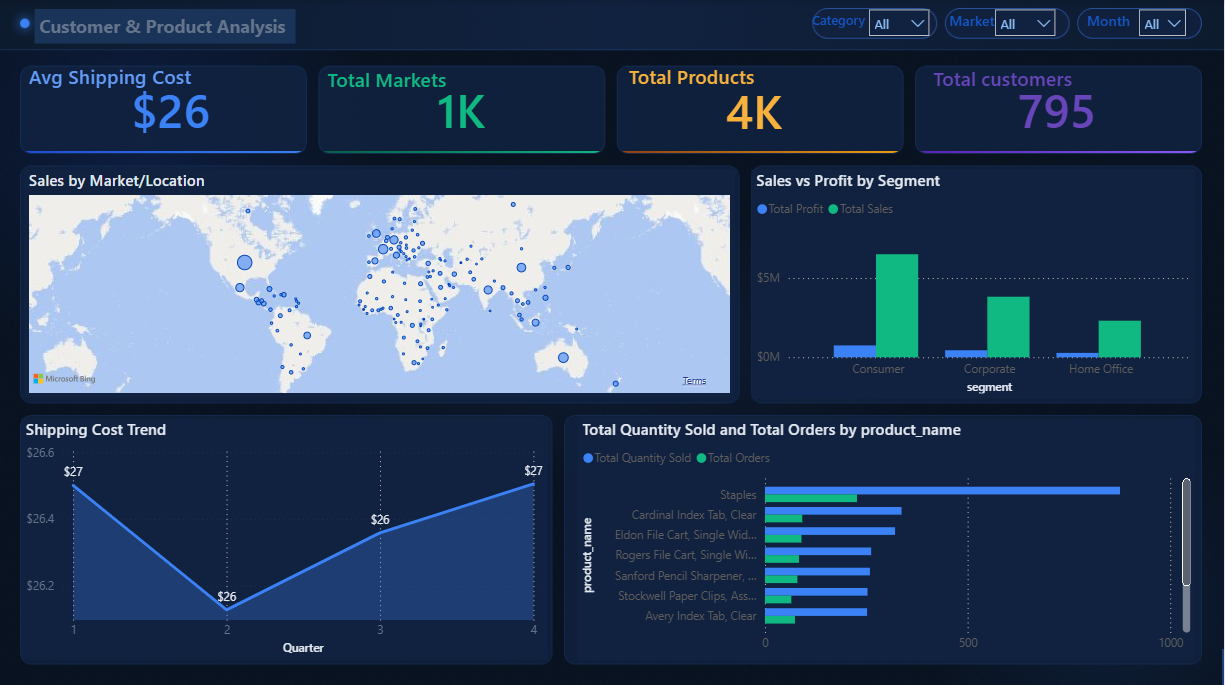

This screenshot's page, from the dashboard's own definition file:
{"tool":"powerbi","page":{"name":"Customer & Product Analysis","canvas":[1280,720],"ordinal":1},"visuals":[{"type":"cardVisual","fields":{"Data":["Measure Table.Avg Shipping Cost"]},"box":[51.6,67.2,259.5,89.1],"z":0},{"type":"cardVisual","fields":{"Data":["Measure Table.# of Markets"]},"box":[339.2,67.2,289.2,89.1],"z":1000},{"type":"cardVisual","fields":{"Data":["Measure Table.# of products"]},"box":[653.3,68.8,272,89.1],"z":2000},{"type":"cardVisual","fields":{"Data":["Measure Table.# of customer"]},"box":[981.6,67.2,247,89.1],"z":3000},{"type":"textbox","title":"Avg Shipping Cost","box":[28.1,65.6,204.8,35.9],"z":4000},{"type":"textbox","title":"Total Markets","box":[339.2,68.8,145.4,34.4],"z":5000},{"type":"textbox","title":"Total Products","box":[653.3,65.6,156.3,35.9],"z":6000},{"type":"textbox","title":"Total customers","box":[970.6,67.2,209.4,35.9],"z":7000},{"type":"slicer","fields":{"Values":["DWH_Date.Month"]},"box":[1180.1,0,68.8,46.9],"z":8000},{"type":"textbox","title":"Month","box":[1123.8,10.9,68.8,18.8],"z":9000},{"type":"textbox","title":"Market","box":[981.6,10.9,68.8,18.8],"z":10000},{"type":"slicer","fields":{"Values":["DWH_Category.category"]},"box":[898.7,0,82.8,53.1],"z":11000},{"type":"textbox","title":"Category","box":[842.5,10.9,68.8,18.8],"z":12000},{"type":"slicer","fields":{"Values":["DWH_Market.market"]},"box":[1030,0,82.8,53.1],"z":13000},{"type":"map","title":"Sales by Market/Location","fields":{"Size":["Measure Table.Total Sales"],"Category":["DWH_Location.country"]},"box":[28.1,176.6,740.9,237.6],"z":14000},{"type":"lineChart","title":"Shipping Cost Trend","fields":{"Y":["Measure Table.Avg Shipping Cost"],"Category":["DWH_Date.Quarter"]},"box":[25,436.1,548.6,251.6],"z":15000},{"type":"textbox","box":[39.1,9.4,272,35.9],"z":16000},{"type":"clusteredColumnChart","title":"Sales vs Profit by Segment","fields":{"Y":["Measure Table.Total Profit","Measure Table.Total Sales"],"Category":["DWH_Customer.segment"]},"box":[786.7,176.7,461.7,238.3],"z":17000},{"type":"clusteredBarChart","fields":{"Category":["DWH_Product.product_name"],"Y":["Measure Table.Total Quantity Sold","Measure Table.Total Orders"]},"box":[605,436.7,643.3,251.7],"z":18000}]}

Visuals, with their boxes in screenshot pixels (x1, y1, x2, y2), scaled from the page's 1280x720 canvas onto the 1225x685 screenshot:
cardVisual - Measure Table.Avg Shipping Cost: (x1=49, y1=64, x2=298, y2=149)
cardVisual - Measure Table.# of Markets: (x1=325, y1=64, x2=601, y2=149)
cardVisual - Measure Table.# of products: (x1=625, y1=65, x2=886, y2=150)
cardVisual - Measure Table.# of customer: (x1=939, y1=64, x2=1176, y2=149)
"Avg Shipping Cost" textbox: (x1=27, y1=62, x2=223, y2=97)
"Total Markets" textbox: (x1=325, y1=65, x2=464, y2=98)
"Total Products" textbox: (x1=625, y1=62, x2=775, y2=97)
"Total customers" textbox: (x1=929, y1=64, x2=1129, y2=98)
slicer - DWH_Date.Month: (x1=1129, y1=0, x2=1195, y2=45)
"Month" textbox: (x1=1076, y1=10, x2=1141, y2=28)
"Market" textbox: (x1=939, y1=10, x2=1005, y2=28)
slicer - DWH_Category.category: (x1=860, y1=0, x2=939, y2=51)
"Category" textbox: (x1=806, y1=10, x2=872, y2=28)
slicer - DWH_Market.market: (x1=986, y1=0, x2=1065, y2=51)
"Sales by Market/Location" map: (x1=27, y1=168, x2=736, y2=394)
"Shipping Cost Trend" lineChart: (x1=24, y1=415, x2=549, y2=654)
textbox: (x1=37, y1=9, x2=298, y2=43)
"Sales vs Profit by Segment" clusteredColumnChart: (x1=753, y1=168, x2=1195, y2=395)
clusteredBarChart - DWH_Product.product_name x Measure Table.Total Quantity Sold: (x1=579, y1=415, x2=1195, y2=655)
